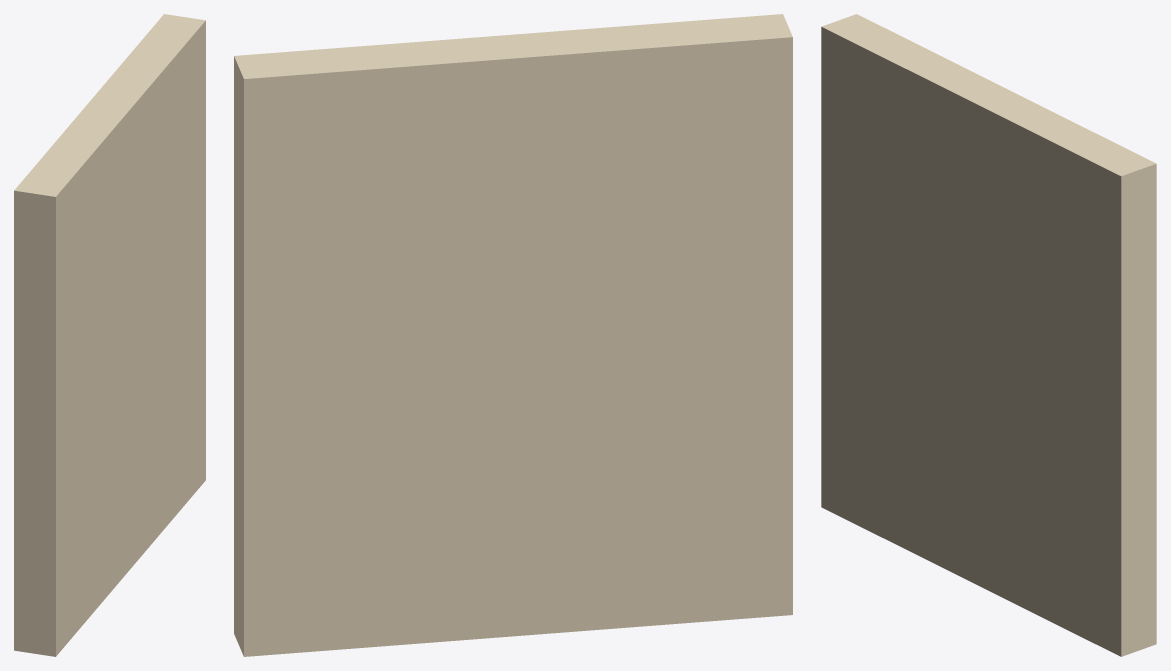
File: bathroom-hand-towel.gltf
The picture shows the model from 3 angles, left to right: view 1: azimuth 30°, elevation 25°; view 2: azimuth 150°, elevation 25°; view 3: azimuth 270°, elevation 25°; orthographic projection. The views are drawn at different scales.
Parts seen in each view (by area): view 1: Hand towel draped on rail; view 2: Hand towel draped on rail; view 3: Hand towel draped on rail.
Part boxes in pixels (x1=…): Hand towel draped on rail: x1=14, y1=14, x2=205, y2=656; Hand towel draped on rail: x1=234, y1=14, x2=792, y2=656; Hand towel draped on rail: x1=821, y1=14, x2=1156, y2=656.
Bounding box in the file's own units: 0.2897 × 0.4 × 0.2529.
